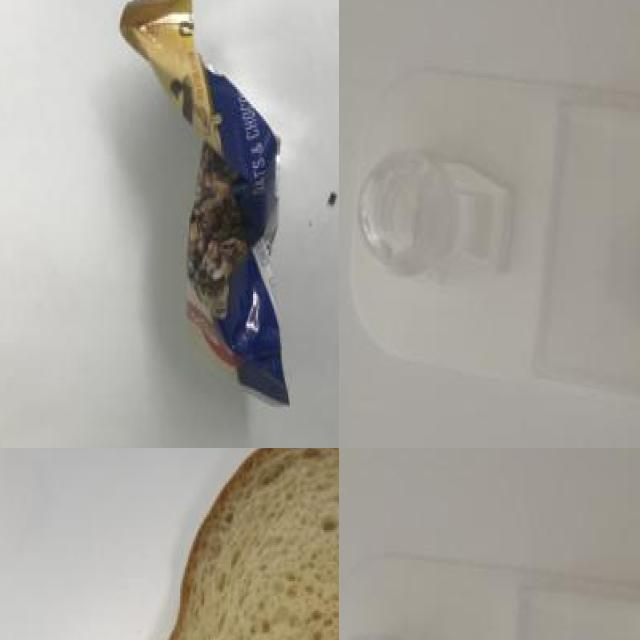compost: (135, 448, 339, 640)
plastic: (344, 54, 640, 414), (339, 539, 640, 640)
trash: (116, 0, 332, 413)
